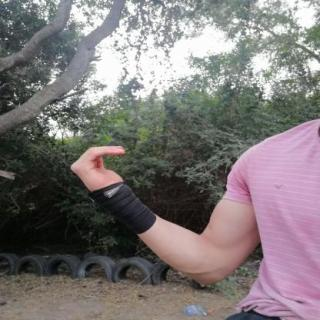HAA: (59, 138, 136, 200)
